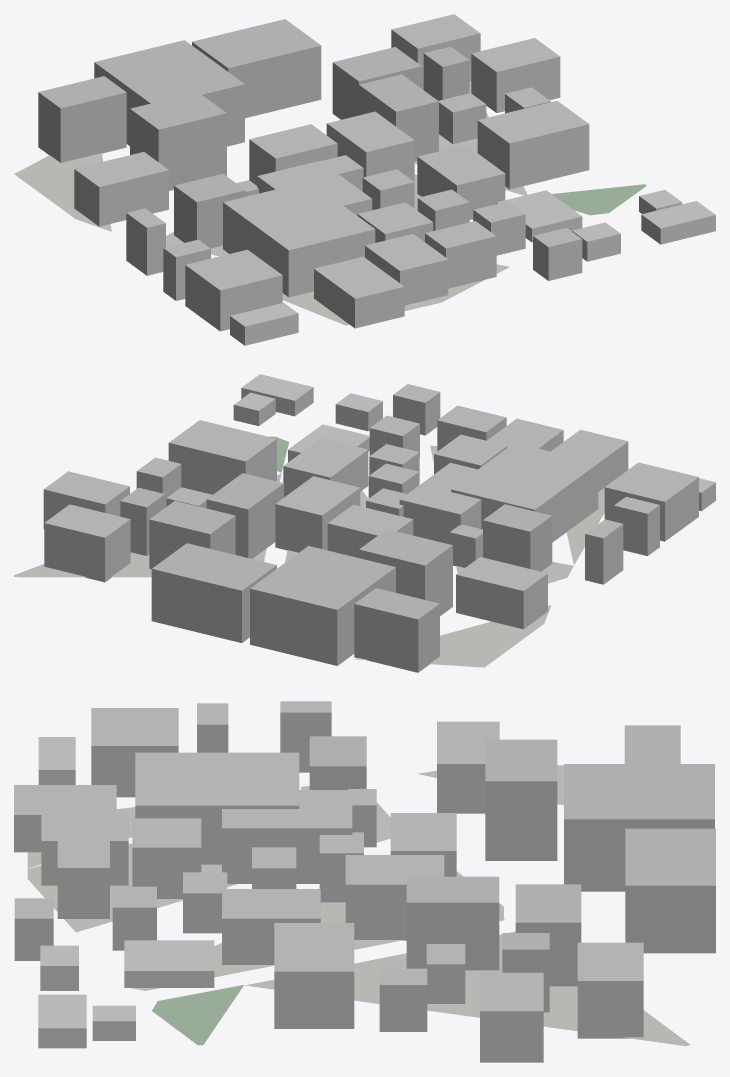
File: 125_112_mid.glb
3 views of the same model, one above another, from view 1: azimuth 30°, elevation 25°; view 2: azimuth 150°, elevation 25°; view 3: azimuth 270°, elevation 25° (orthographic). The views are drawn at different scales.
Size of the model in its own units: 539 by 66.62 by 527.
